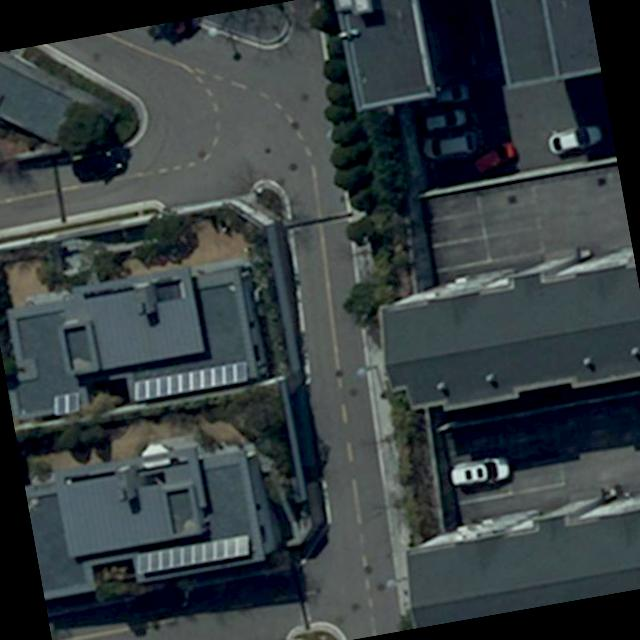solar: (128, 357, 252, 402), (128, 534, 252, 578), (47, 387, 87, 416)
